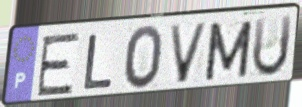E: (34, 30, 82, 99)
L: (81, 32, 115, 92)
M: (202, 18, 255, 83)
O: (123, 23, 165, 92)
U: (250, 12, 295, 80)
V: (167, 21, 211, 86)
